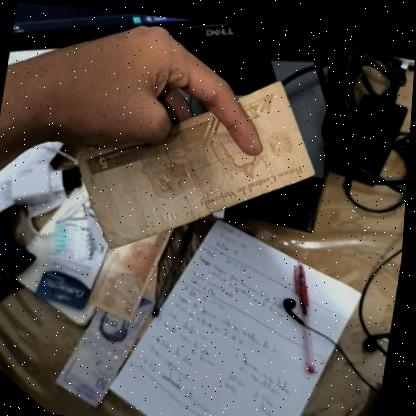five-back-vef: (43, 37, 331, 282)
